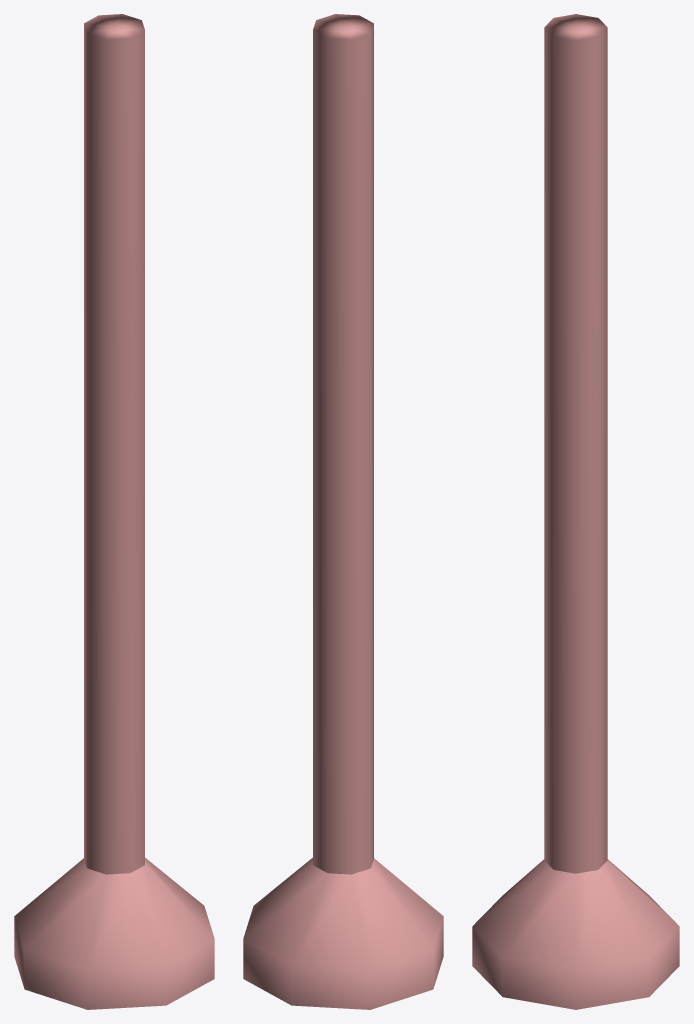
The model's file is Traffic_Pole_A_A_COL.fbx.
The picture shows the model from 3 angles, left to right: view 1: azimuth 30°, elevation 25°; view 2: azimuth 150°, elevation 25°; view 3: azimuth 270°, elevation 25°; orthographic projection.
Visible parts, largest first — view 1: Traffic_Pole_A_A_COL; view 2: Traffic_Pole_A_A_COL; view 3: Traffic_Pole_A_A_COL.
Boxes of the visible parts, x1,y1,x2,y2 form: Traffic_Pole_A_A_COL: (14,14,214,1009); Traffic_Pole_A_A_COL: (243,14,443,1009); Traffic_Pole_A_A_COL: (472,14,679,1009).
Size of the model in its own units: 20 by 100 by 20.
